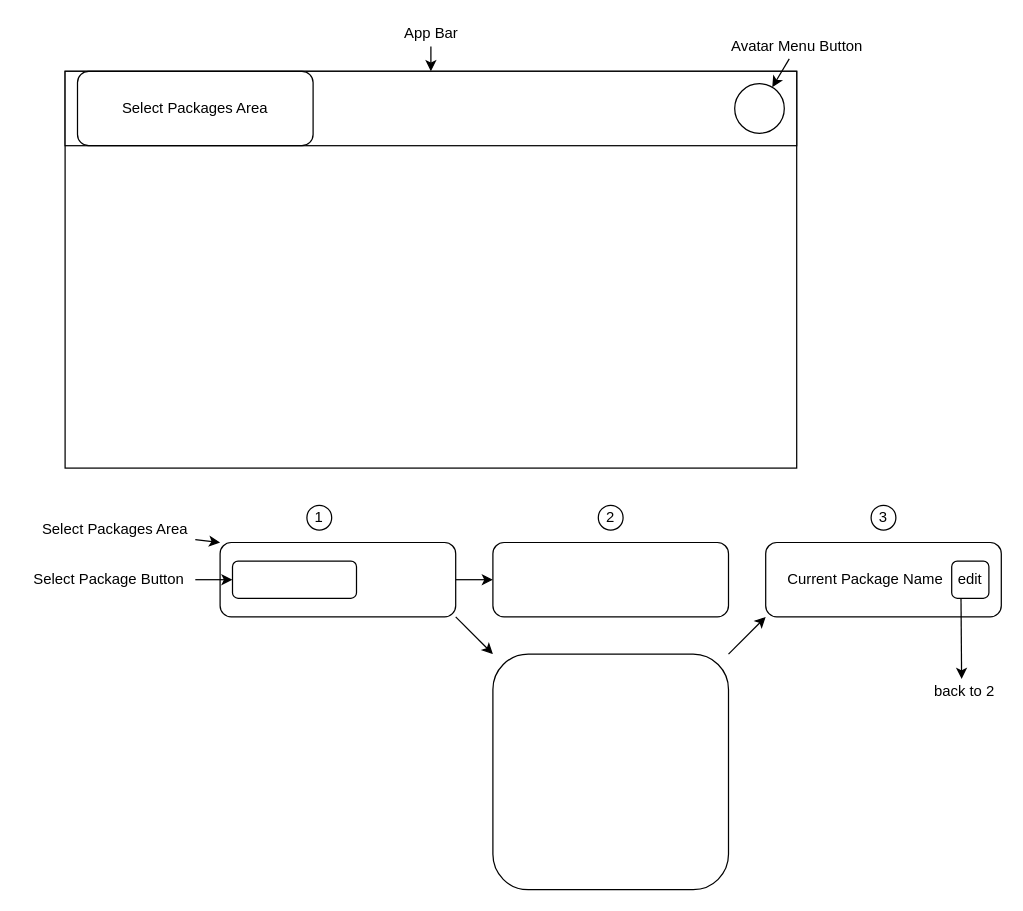
Image size: 1023x911. Some labels were removed from this diagram. Here are the shapes that lost their labels. From the top down, the centre of each, then its label:
At [293,579]: "Select Package".
At [610,579]: "Background is disabled & faded".
At [610,771]: "File Selector".
